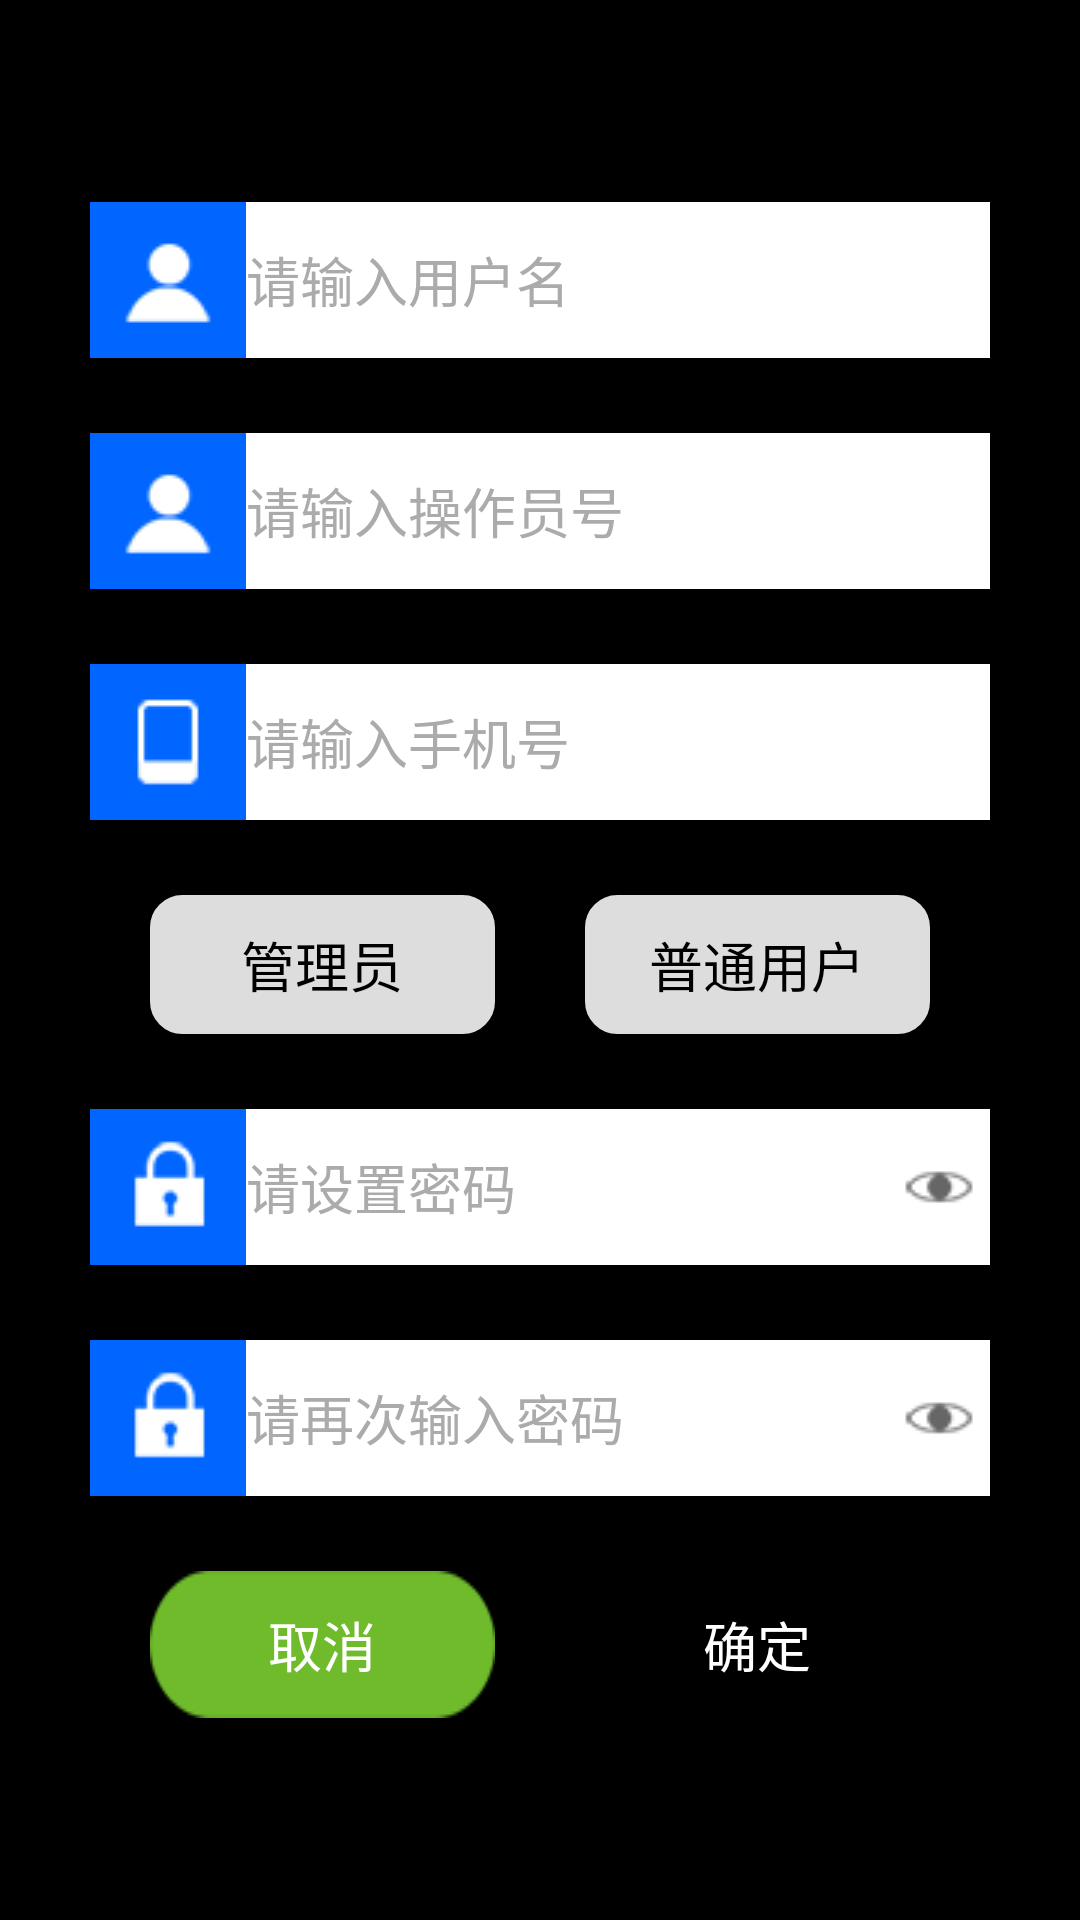

Icon click points for this 1080 × 1920 phone screenshot, format (x=x, y=y):
pic gh: (x=168, y=280), (x=168, y=511)
pic jmm: (x=168, y=1187), (x=168, y=1418)
pic sjh: (x=168, y=742)
see: (x=939, y=1187), (x=939, y=1418)
